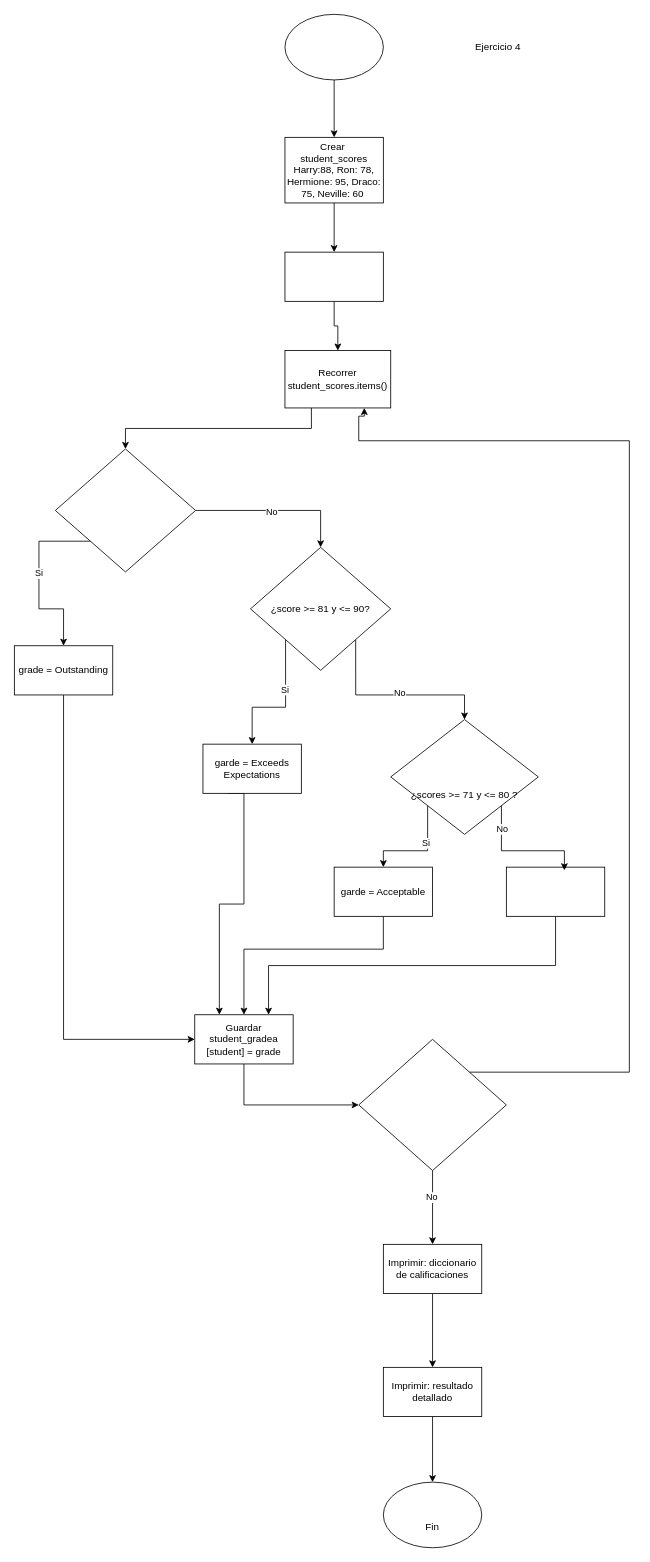
Some shapes in this 650 by 1562 pixel diagram are drawn without their labels. The centre of each missing label's shape, as x and y in pixels:
Crear student_grades vacio: pixel 333 276
garde = Fail: pixel 555 891
Inicio: pixel 333 47
¿Quedan estudiantes?: pixel 432 1105
¿Score>= 91 y <= 100 ?: pixel 125 510
